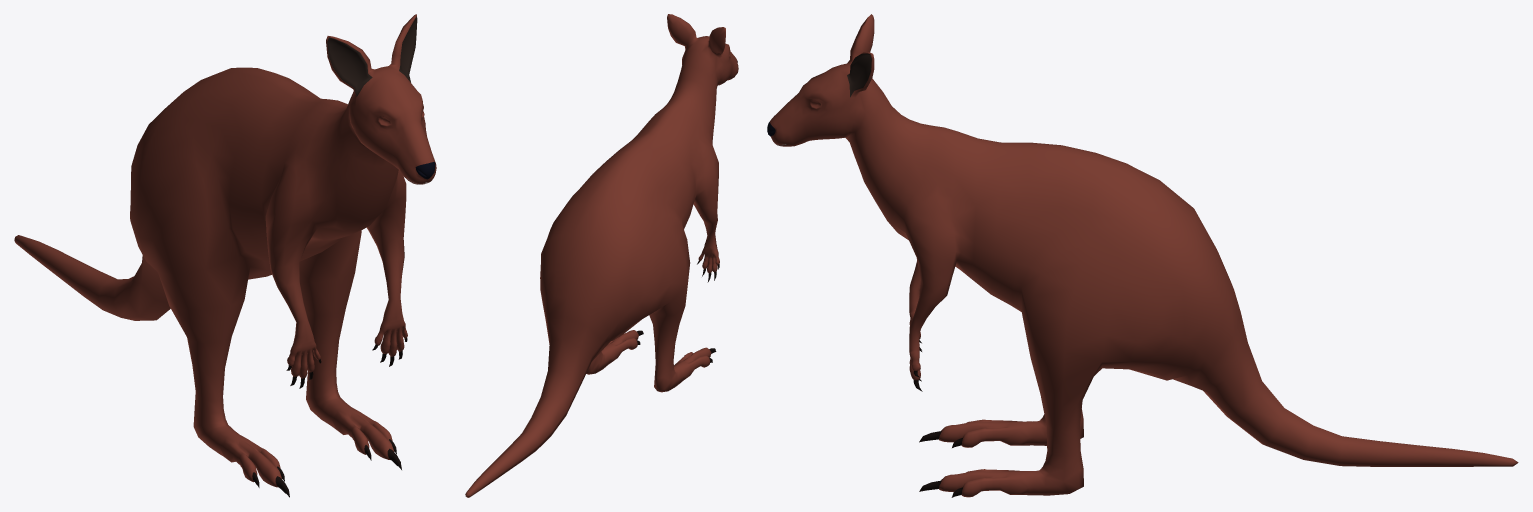
File: kangaroo_kangaroo.obj
3 renders of one model, left to right at view 1: azimuth 30°, elevation 25°; view 2: azimuth 150°, elevation 25°; view 3: azimuth 270°, elevation 25°, orthographic. The views are drawn at different scales.
Parts seen in each view (by area): view 1: kangaroo; view 2: kangaroo; view 3: kangaroo.
Part boxes in pixels (bbox=[...]): kangaroo: bbox=[14, 14, 436, 497]; kangaroo: bbox=[465, 14, 738, 497]; kangaroo: bbox=[767, 14, 1518, 497].
Size of the model in its own units: 0.676 by 1.67 by 2.62.
